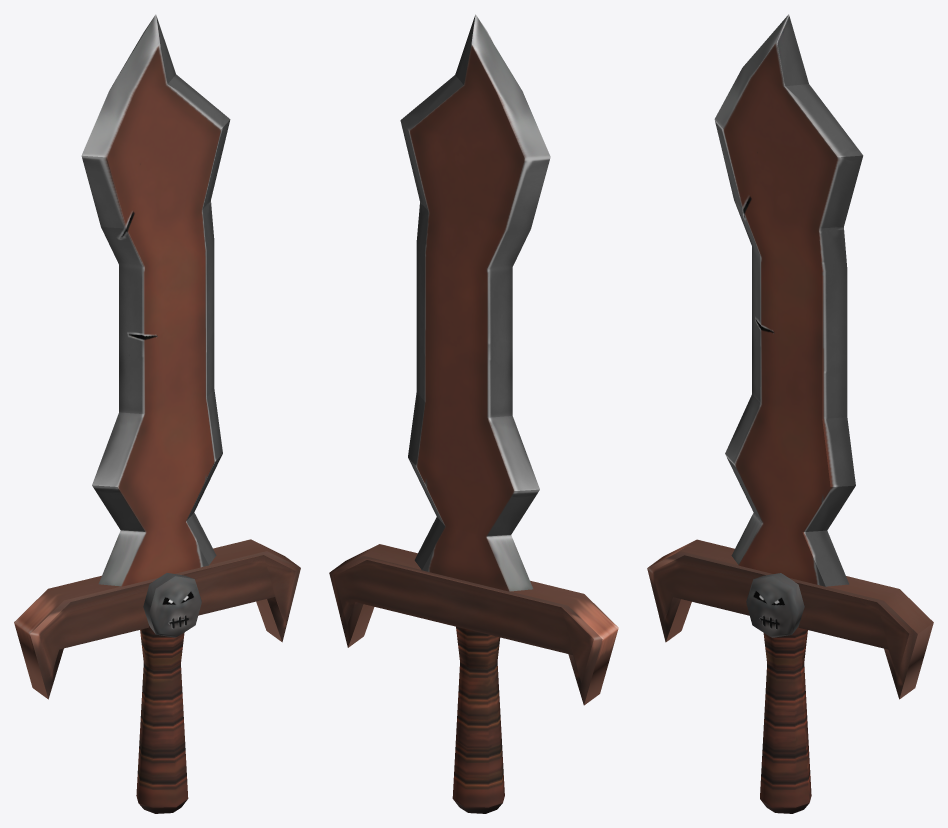
The model's file is Medieval Scimitar.fbx.
3 views of the same model, side by side, from view 1: azimuth 30°, elevation 25°; view 2: azimuth 150°, elevation 25°; view 3: azimuth 330°, elevation 25° (orthographic).
Parts seen in each view (by area): view 1: Medieval_Scimitar; view 2: Medieval_Scimitar; view 3: Medieval_Scimitar.
Boxes of the visible parts, box(x1,y1,x2,y2) form: Medieval_Scimitar: box(14, 14, 300, 813); Medieval_Scimitar: box(329, 14, 618, 813); Medieval_Scimitar: box(647, 14, 933, 813).
Size of the model in its own units: 1.99 by 5.55 by 0.3915.
